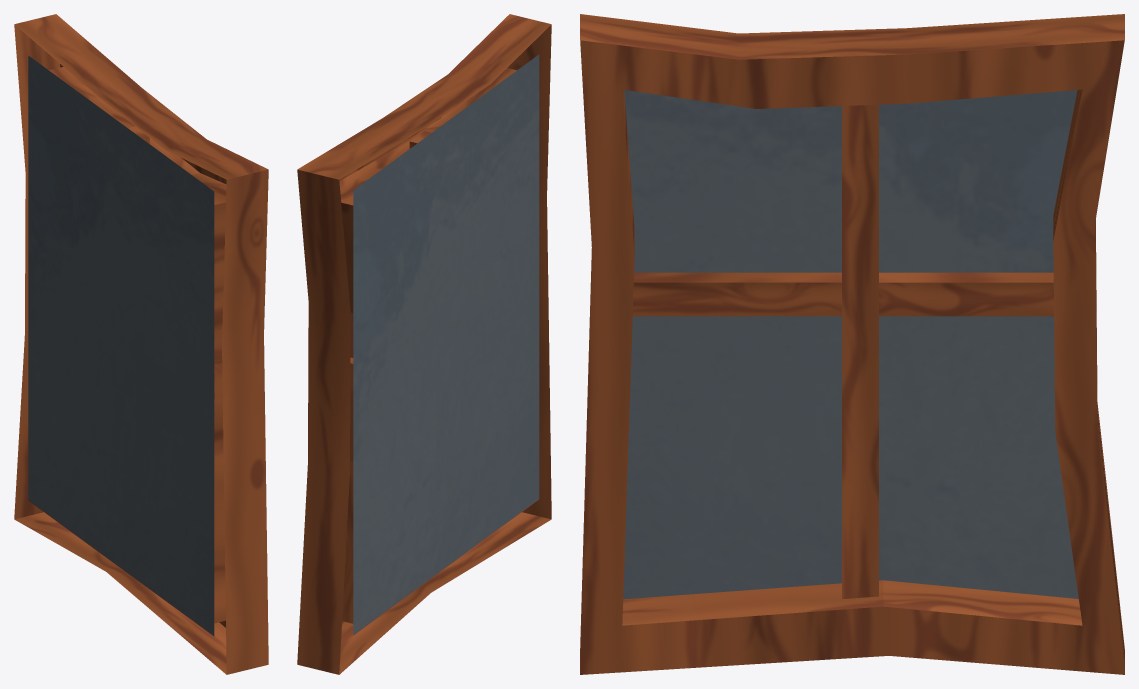
Rendered from SM_Window.fbx.
3 views of the same model, side by side, from view 1: azimuth 30°, elevation 25°; view 2: azimuth 150°, elevation 25°; view 3: azimuth 270°, elevation 25° (orthographic). The views are drawn at different scales.
Parts seen in each view (by area): view 1: SM_Window; view 2: SM_Window; view 3: SM_Window.
Part boxes in pixels (box(x1,y1,x2,y2)): SM_Window: box(14, 14, 268, 674); SM_Window: box(297, 14, 551, 674); SM_Window: box(580, 14, 1124, 674).
Bounding box in the file's own units: 16.75 × 188 × 147.
